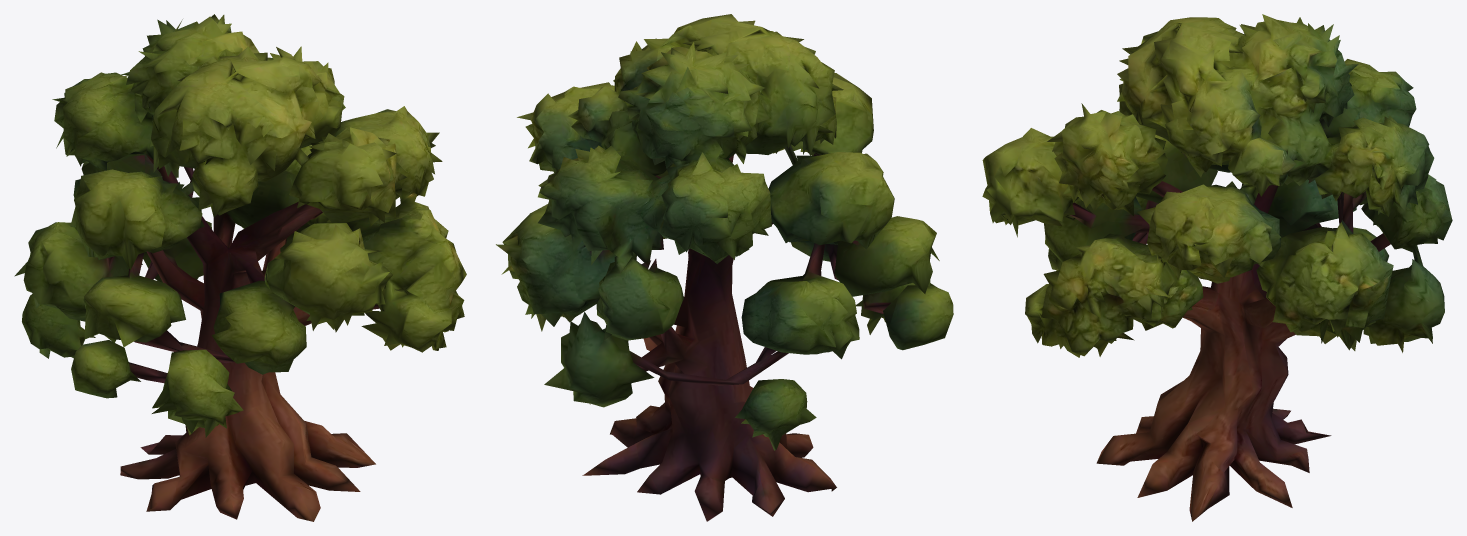
File: hd_tree_oak.glb
3 renders of one model, left to right at view 1: azimuth 30°, elevation 25°; view 2: azimuth 150°, elevation 25°; view 3: azimuth 270°, elevation 25°, orthographic. The views are drawn at different scales.
Parts seen in each view (by area): view 1: tripo_node_be6618fb-3536-4027-a064-9502a1d1513f; view 2: tripo_node_be6618fb-3536-4027-a064-9502a1d1513f; view 3: tripo_node_be6618fb-3536-4027-a064-9502a1d1513f.
Boxes of the visible parts, left/top/right/bottom form: tripo_node_be6618fb-3536-4027-a064-9502a1d1513f: left=14, top=14, right=466, bottom=521; tripo_node_be6618fb-3536-4027-a064-9502a1d1513f: left=496, top=14, right=953, bottom=521; tripo_node_be6618fb-3536-4027-a064-9502a1d1513f: left=982, top=14, right=1452, bottom=521.
Bounding box in the file's own units: 0.9238 × 1 × 0.9602.
1 material, 1 textured.
